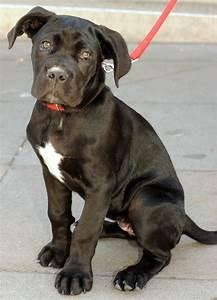dog: (6, 5, 216, 295)
